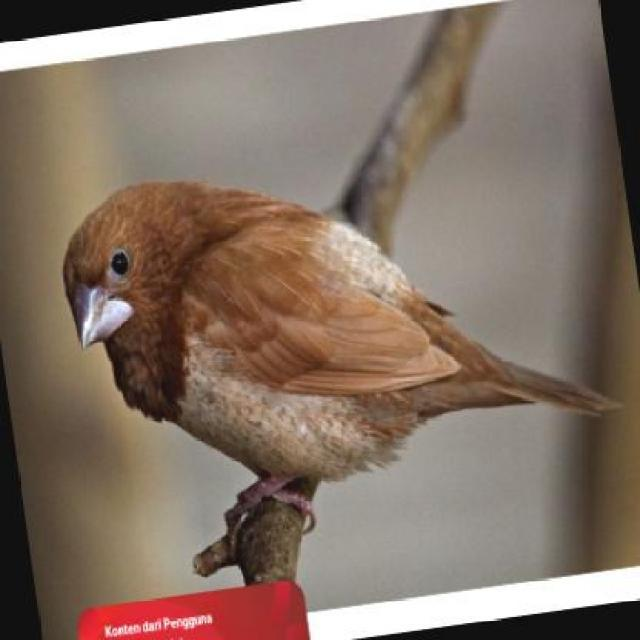Bird: (56, 175, 624, 523)
